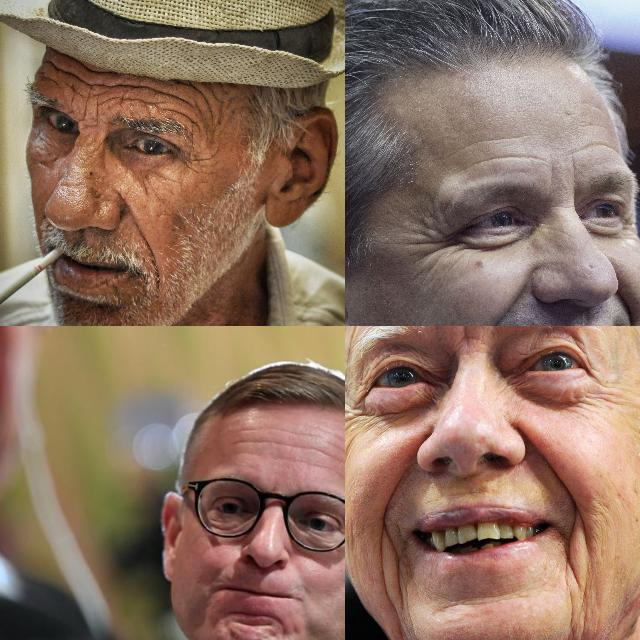chin: (436, 588, 518, 614), (382, 591, 424, 640), (222, 603, 290, 629), (564, 595, 591, 640)
crows_feet: (418, 218, 462, 262), (580, 368, 616, 416), (182, 144, 216, 184), (345, 382, 369, 436)
forehead: (238, 421, 336, 457), (133, 78, 187, 119), (84, 71, 130, 109), (482, 145, 542, 169), (44, 57, 78, 93), (193, 80, 227, 116), (578, 135, 622, 159)
frown_line: (455, 326, 479, 354)
gummy_smile: (517, 428, 577, 507), (374, 450, 412, 526), (487, 277, 527, 326), (122, 208, 158, 260), (611, 283, 639, 326)
sad_smile: (560, 522, 594, 586), (378, 529, 414, 583)
